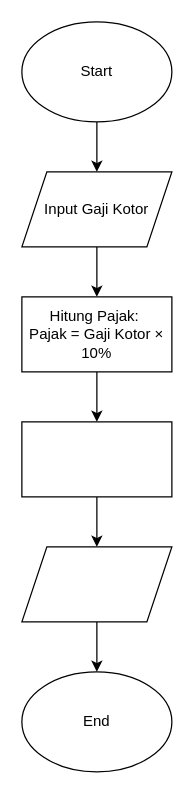
This 194x794 diagram has some shape labels left out. Here are the shapes that lost their labels. From the top down, the centre of each, then its label:
(96,459): Hitung Gaji Bersih: Gaji Bersih = Gaji Kotor - Pajak
(96,584): Tampilan Gaji Bersih
